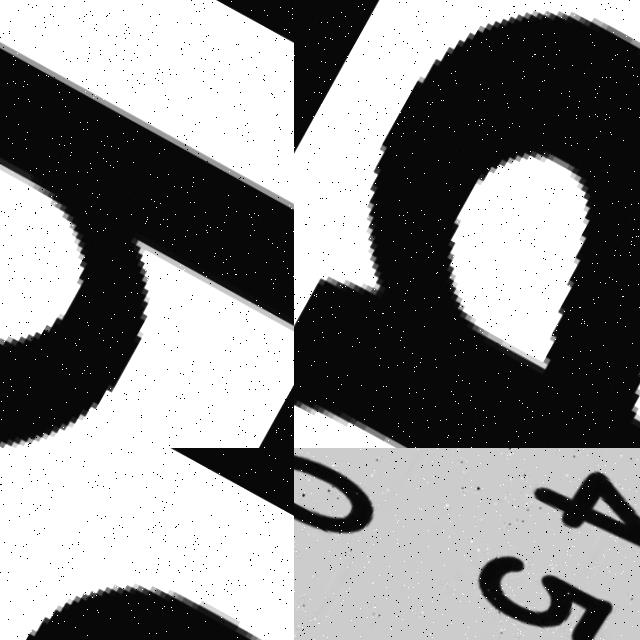0: (294, 448, 425, 591)
4: (499, 448, 640, 596)
5: (442, 510, 640, 640)
9: (294, 448, 493, 504)
A: (294, 0, 640, 448)
Q: (0, 452, 294, 640)
